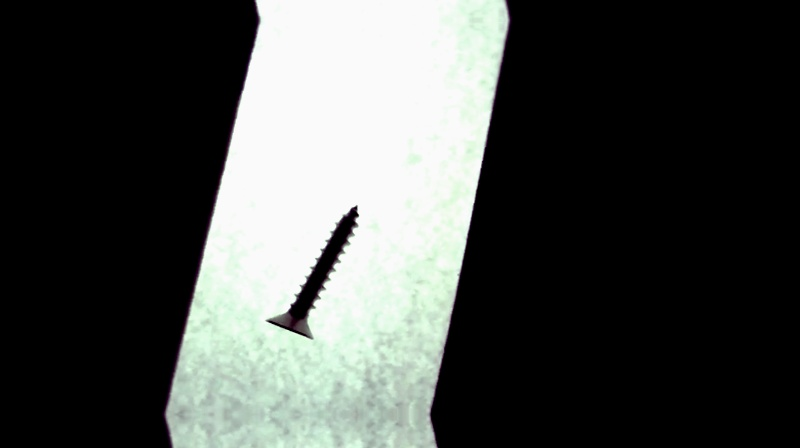S001: (260, 201, 363, 345)
